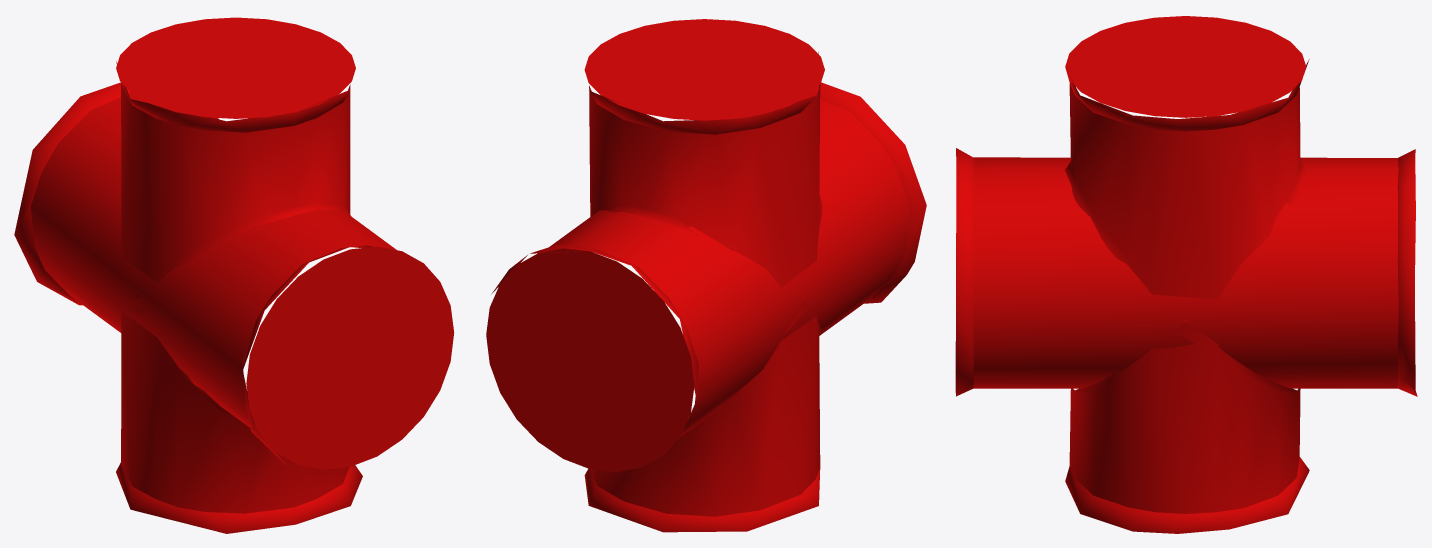
3 views of the same model, side by side, from view 1: azimuth 30°, elevation 25°; view 2: azimuth 150°, elevation 25°; view 3: azimuth 270°, elevation 25° (orthographic).
Visible parts, largest first — view 1: Mesh; view 2: Mesh; view 3: Mesh.
Boxes of the visible parts, box(x1,y1,x2,y2) form: Mesh: box(14, 17, 454, 533); Mesh: box(486, 19, 926, 532); Mesh: box(955, 16, 1417, 533).
Bounding box in the file's own units: 0.4389 × 0.8048 × 0.8056.
